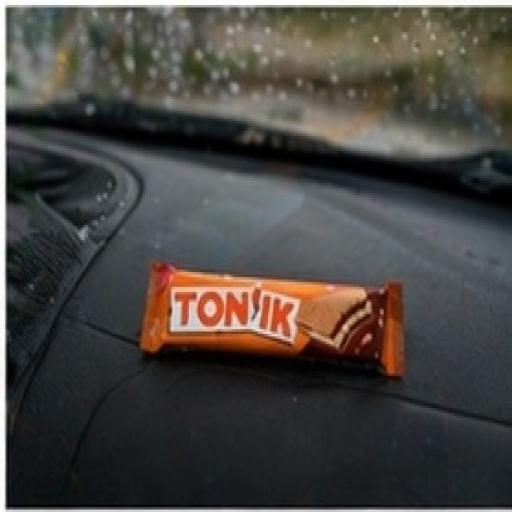tonik: (102, 201, 468, 452)
